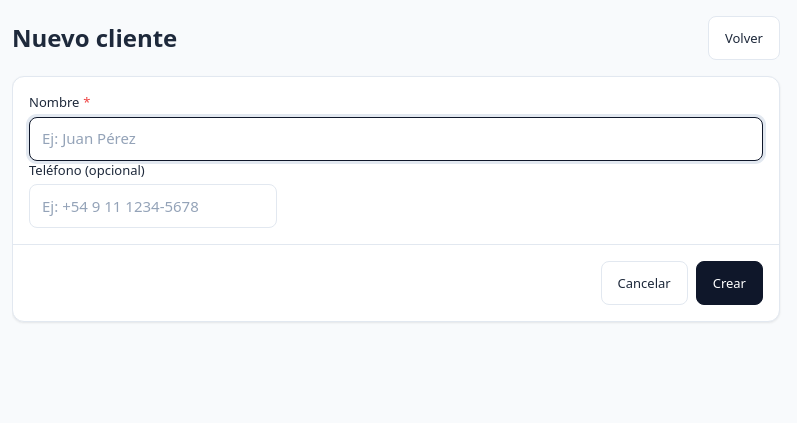
it: CustomerForm › New Mode › shows validation error when name is empty
This screenshot has width=797, height=423.
Click the button "Crear": (729, 283) [696, 261, 763, 305]
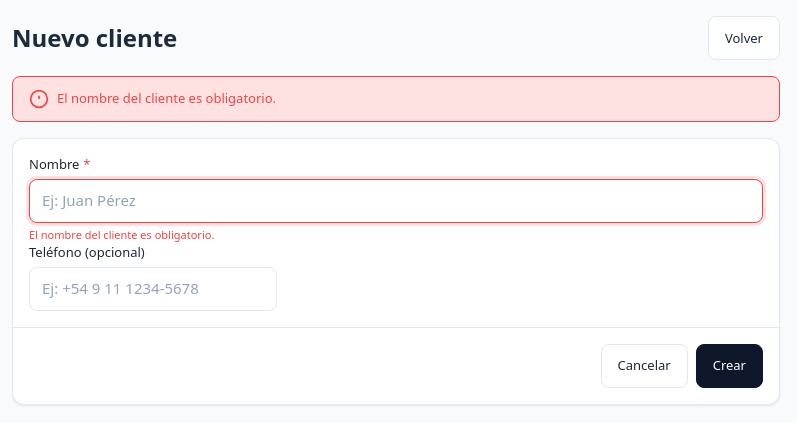
Expected: the text "El nombre del cliente es obligatorio." is shown, [57, 89, 276, 108]
